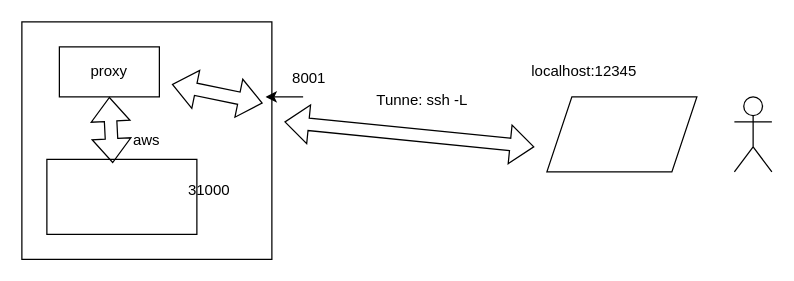
Some shapes in this 794 by 281 pixel diagram are drawn without their labels. Here are the shapes that lost their labels. From the top down, the centre of each, then its label:
At point (752, 134): "Actor".
At point (121, 196): "minikube".
